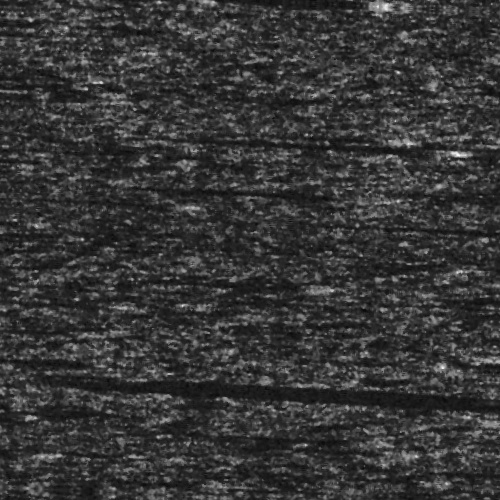object: (290, 180, 395, 199), (345, 438, 470, 449), (388, 137, 481, 144), (8, 459, 81, 466), (138, 204, 179, 209), (213, 483, 244, 488), (452, 255, 483, 260), (300, 281, 341, 284), (89, 310, 130, 313), (435, 468, 456, 473), (360, 433, 391, 436), (196, 0, 207, 6), (115, 333, 136, 336), (17, 423, 28, 428), (490, 216, 500, 221), (364, 0, 375, 3)
shadow: (146, 180, 342, 199), (191, 384, 500, 395), (210, 438, 407, 449), (178, 137, 435, 144), (251, 468, 446, 473), (64, 0, 369, 3), (0, 204, 159, 209), (74, 0, 201, 6), (340, 255, 468, 260), (121, 281, 320, 284), (177, 433, 375, 436), (439, 131, 500, 140), (401, 181, 500, 186), (402, 216, 500, 221), (160, 483, 228, 488), (0, 310, 109, 313), (0, 459, 45, 466), (54, 333, 125, 336), (0, 423, 22, 428), (491, 458, 500, 463)
